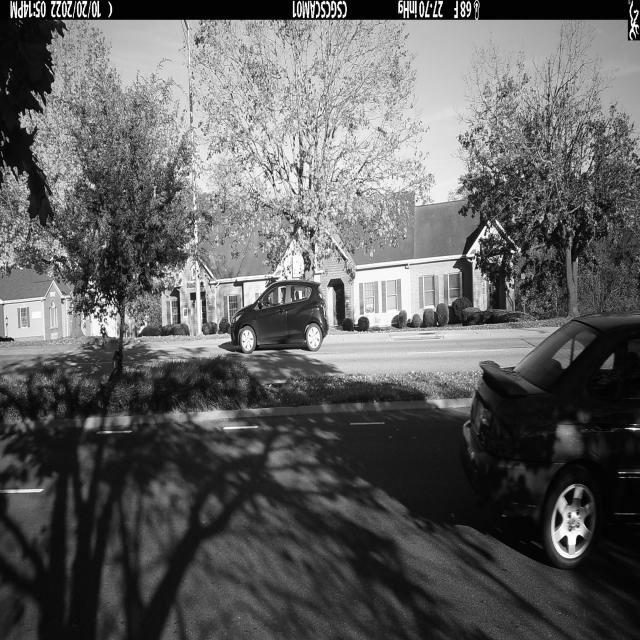Hatchback: (231, 280, 330, 355)
